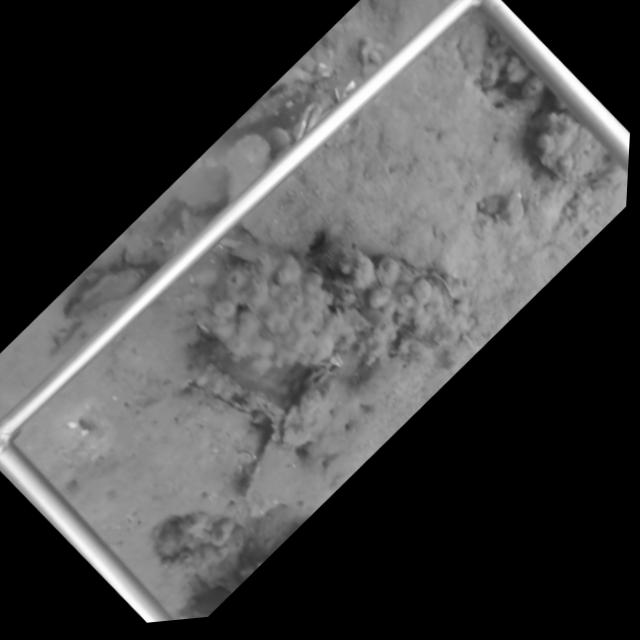Oyster-Closed: (182, 369, 265, 432)
Oyster-Indeterminate: (63, 263, 148, 322), (223, 133, 271, 204), (174, 163, 222, 216)
Oyster-Open: (294, 101, 323, 140)
